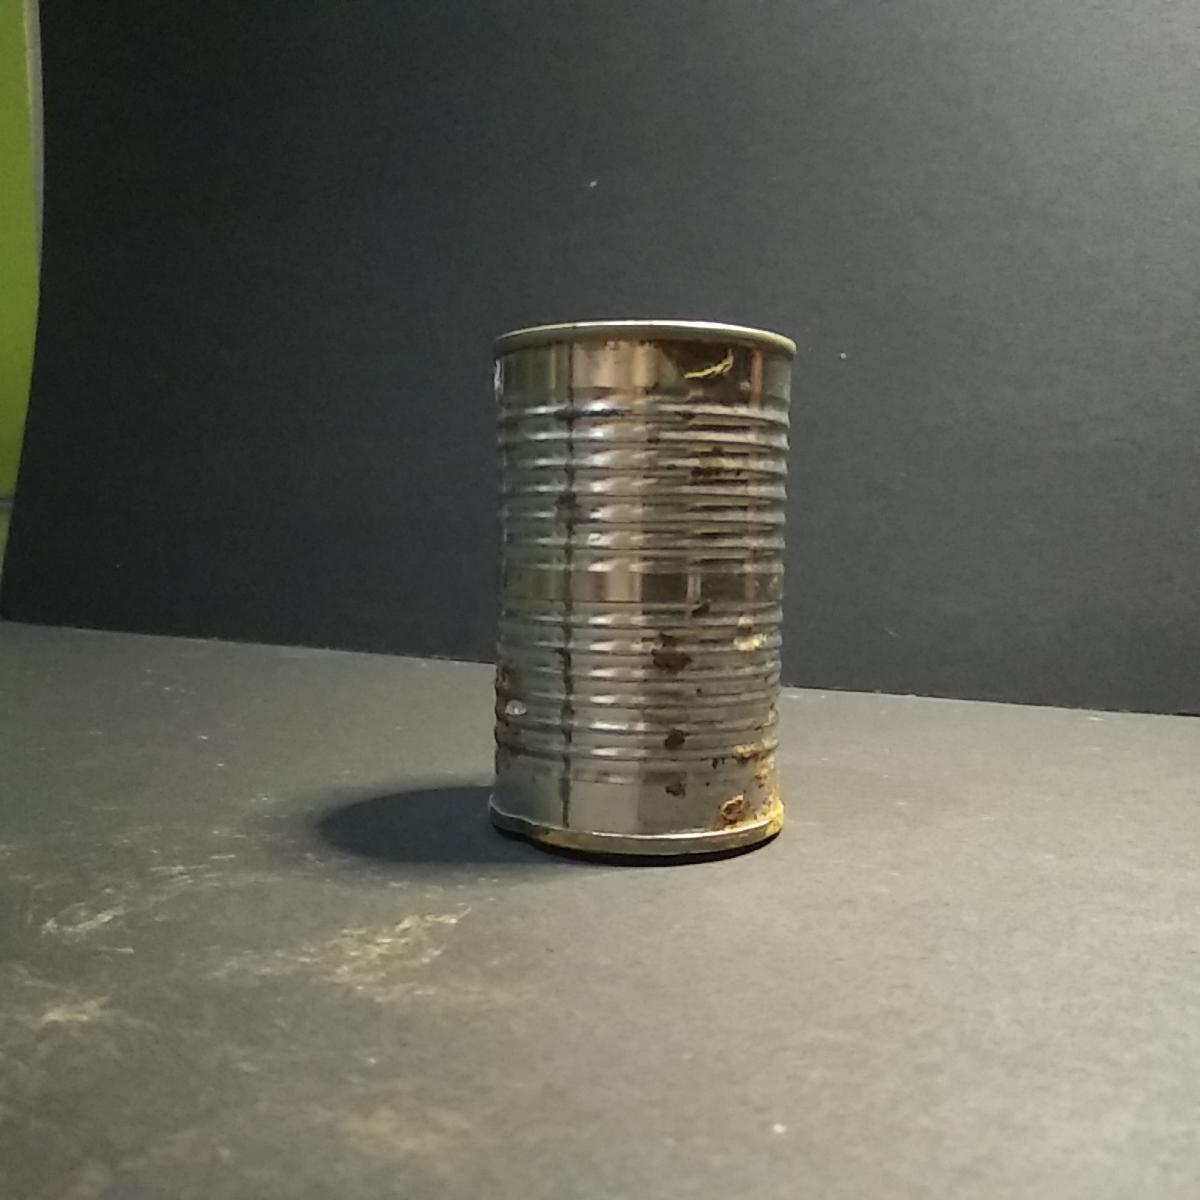Rusted: (478, 308, 804, 870)
